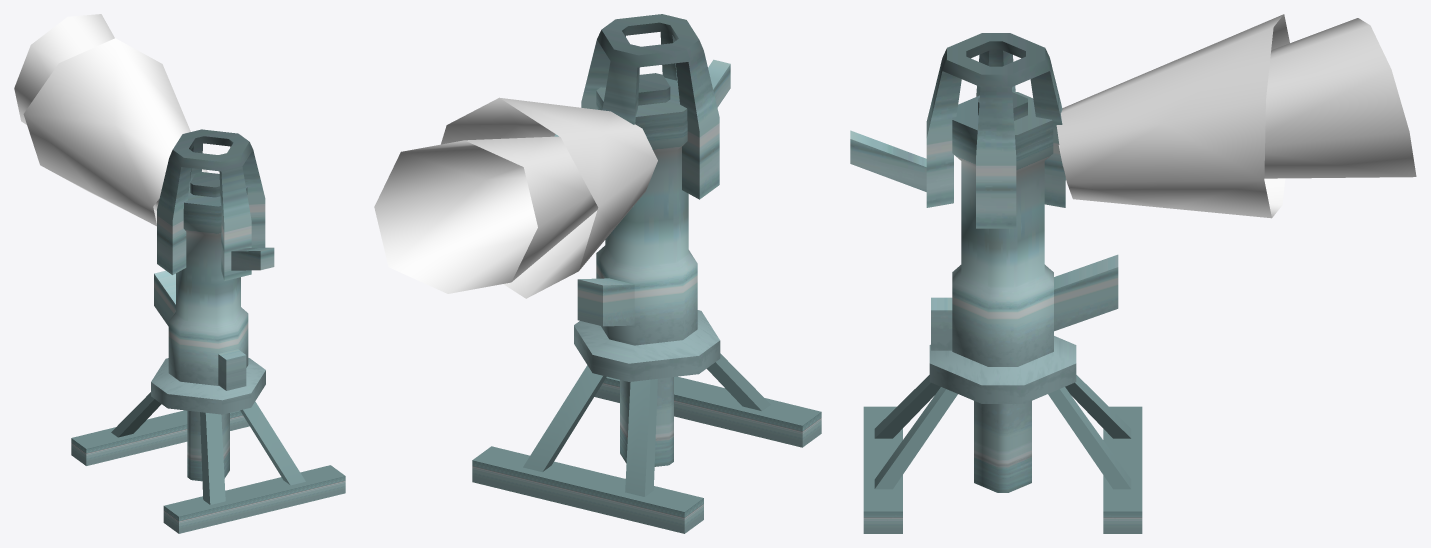
Rendered from Sprinkler.fbx.
3 views of the same model, side by side, from view 1: azimuth 30°, elevation 25°; view 2: azimuth 150°, elevation 25°; view 3: azimuth 270°, elevation 25° (orthographic). The views are drawn at different scales.
Parts seen in each view (by area): view 1: Sprinker, SplashMesh, SprinklerTurner; view 2: Sprinker, SplashMesh, SprinklerTurner; view 3: Sprinker, SplashMesh, SprinklerTurner.
Part boxes in pixels (x1,y1,x2,y2): Sprinker: (71, 172, 345, 533); SplashMesh: (14, 14, 207, 226); SprinklerTurner: (157, 129, 274, 280); Sprinker: (472, 73, 821, 533); SplashMesh: (374, 97, 657, 298); SprinklerTurner: (554, 14, 730, 206); Sprinker: (863, 92, 1142, 533); SplashMesh: (1056, 14, 1416, 218); SprinklerTurner: (850, 33, 1066, 228).
Bounding box in the file's own units: 0.7261 × 1.48 × 1.65.
